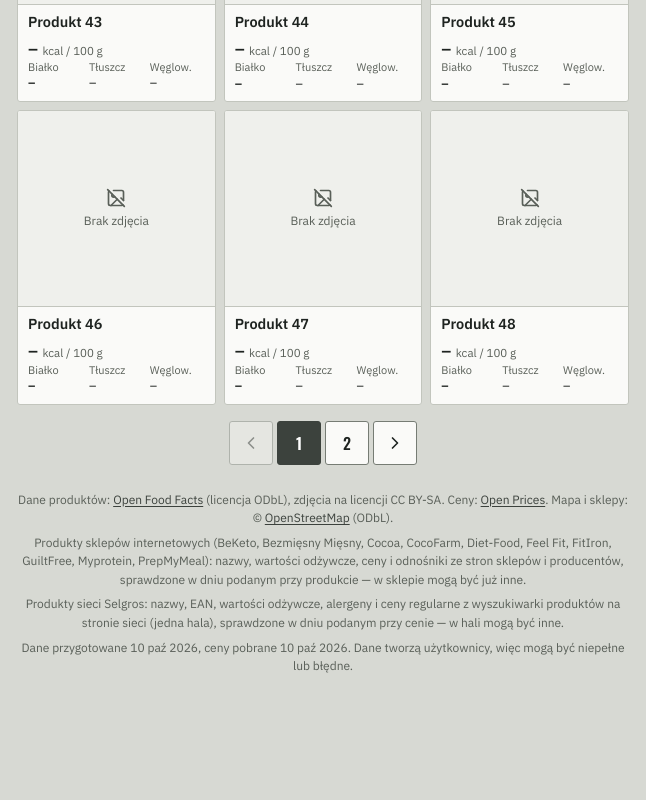
Test: Produkty › strony po 48 produktów: przejście zapisuje stronę w adresie, a zmiana filtrów wraca na pierwszą
(page scrolled)
Step 1. Click the button named "Następna strona" → (395, 442), box [373,420,417,464]
(page scrolled)
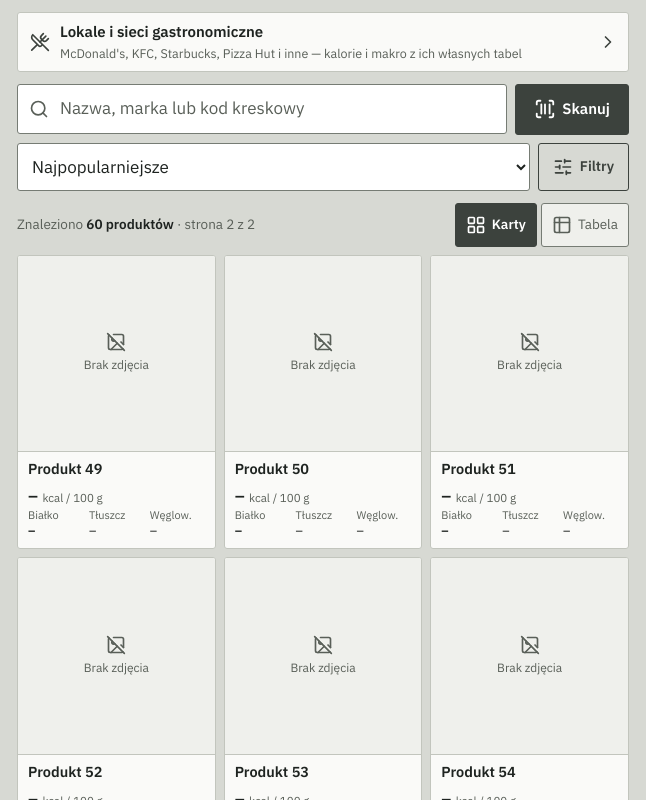
expect the text "Znaleziono 60 produktów · strona 2 z 2" is shown: met, box [17,215,255,234]
Step 2. Type "produkt" into the search field named "Szukaj produktu" → (262, 109), box [17,84,507,134]
Then press Enter
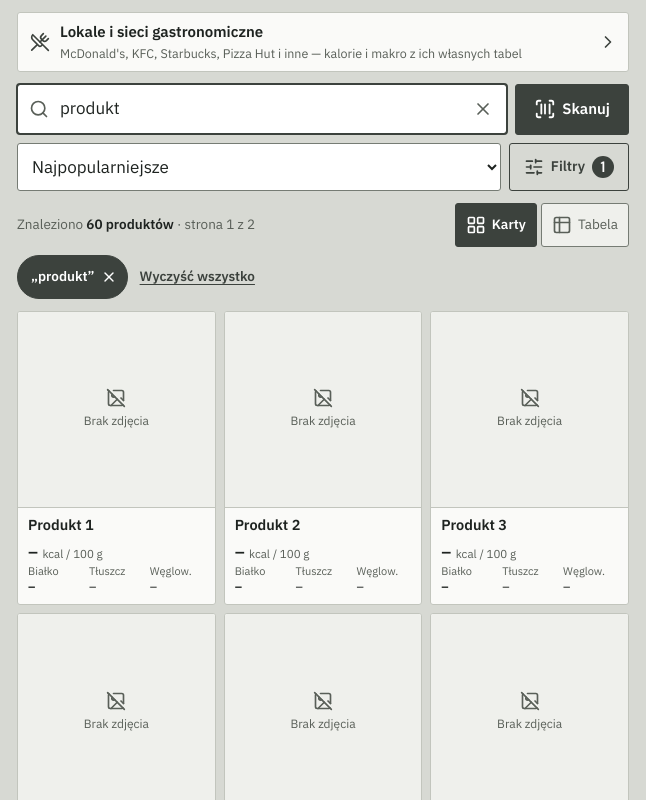
expect the text "Znaleziono 60 produktów · strona 1 z 2" is shown: met, box [17,215,255,234]
